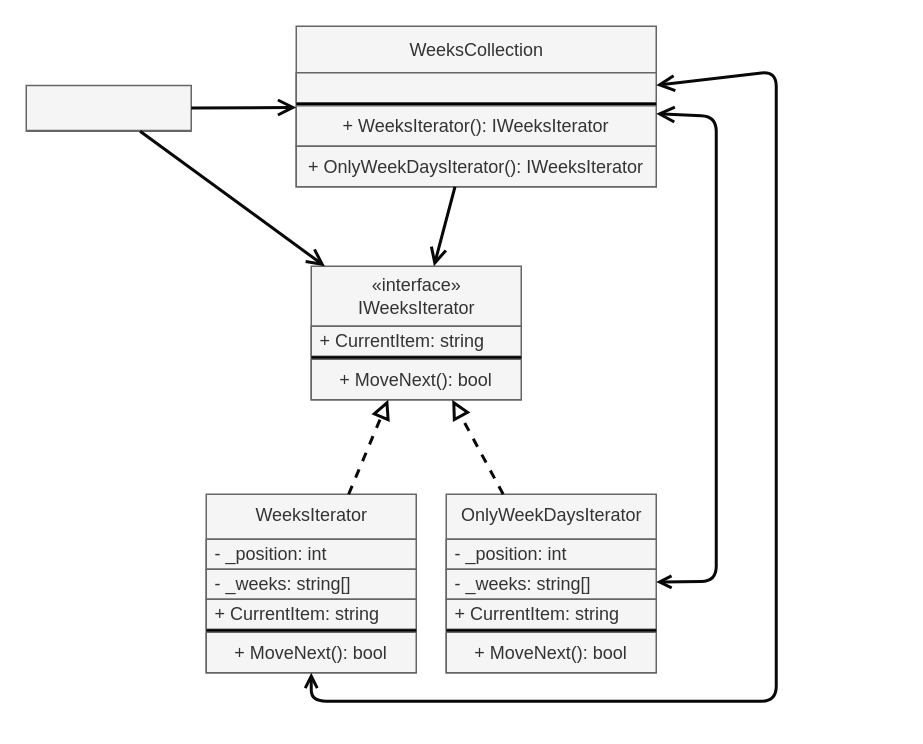
The diagram is 923 pixels wide and 744 high, and some of its shapes have lost their labels. Here are the shapes that lost their labels. From the top down, the centre of each, then its label:
the point at 108,107: Program
the point at 475,87: - _weekDays: Array<string>
